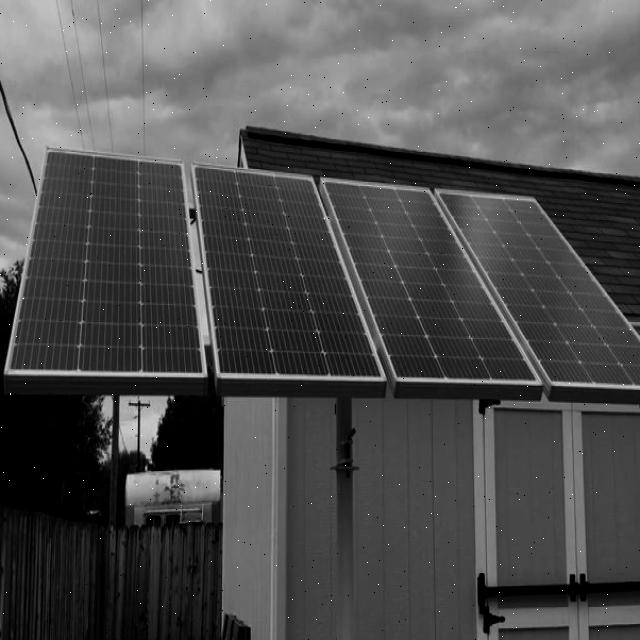Normal Solar Panel: (4, 153, 204, 395), (322, 180, 541, 398), (192, 168, 384, 398), (437, 191, 640, 406)
